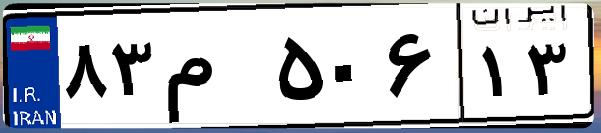0: (330, 28, 385, 110)
1: (475, 38, 525, 113)
3: (525, 38, 570, 115), (110, 28, 158, 98)
5: (270, 28, 330, 110)
6: (385, 28, 445, 110)
8: (57, 26, 110, 100)
م: (158, 20, 270, 120)
